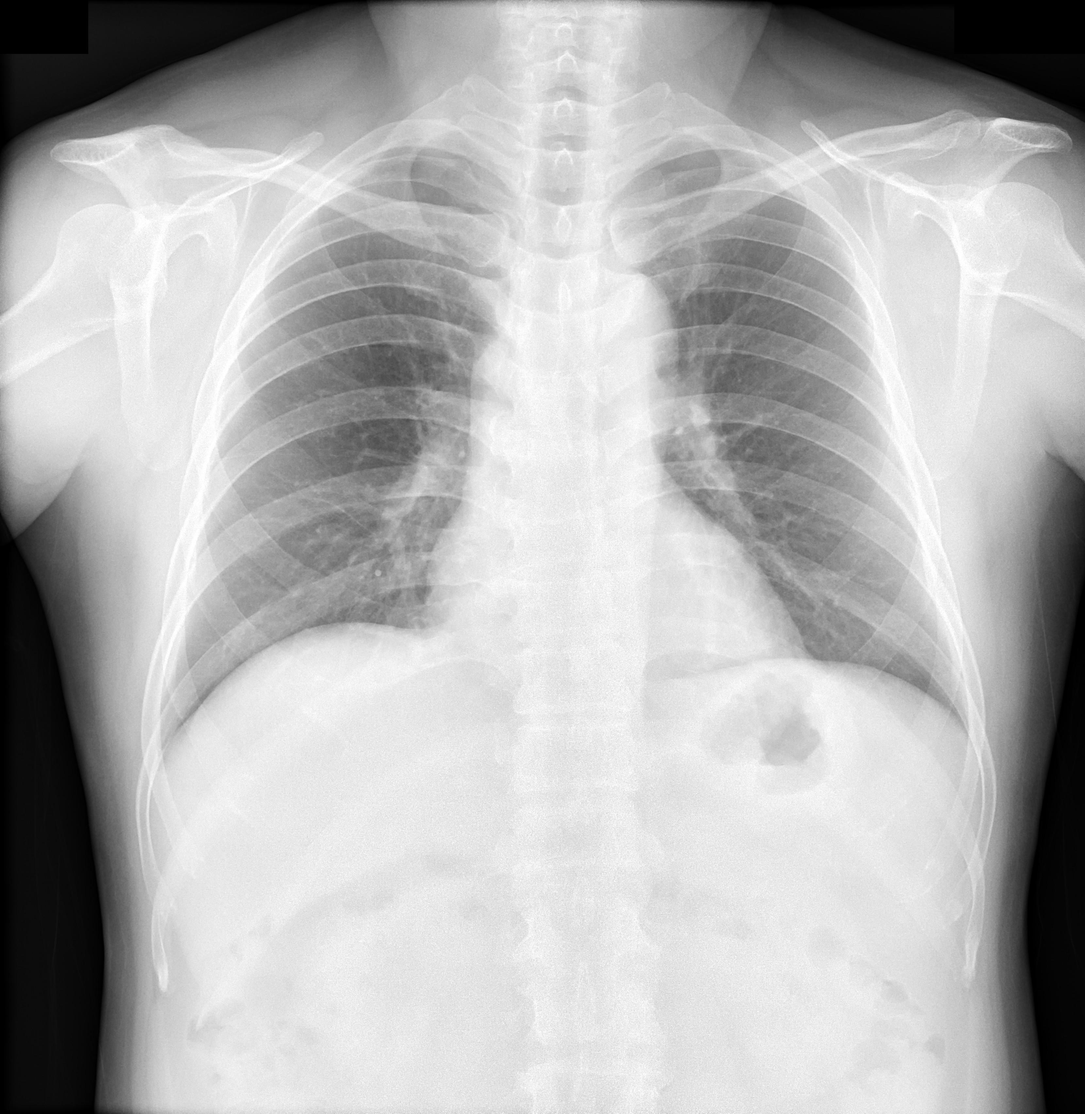Aortic enlargement: (565, 268, 680, 392)
